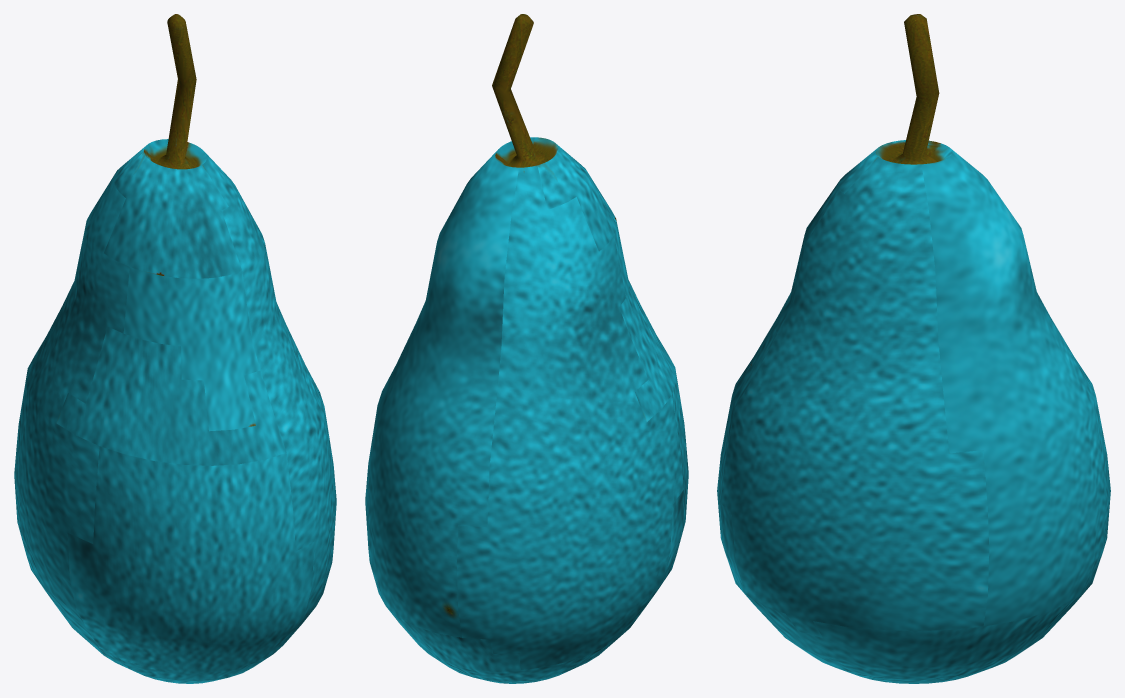
Rendered from bluePearModel 1.fbx.
3 renders of one model, left to right at view 1: azimuth 30°, elevation 25°; view 2: azimuth 150°, elevation 25°; view 3: azimuth 270°, elevation 25°, orthographic.
Visible parts, largest first — view 1: Sphere; view 2: Sphere; view 3: Sphere.
Boxes of the visible parts, box(x1,y1,x2,y2) form: Sphere: box(14, 14, 336, 683); Sphere: box(365, 14, 688, 683); Sphere: box(717, 14, 1110, 683).
Size of the model in its own units: 2.6 by 4.81 by 2.
Materials: 1 (1 with a texture image).
